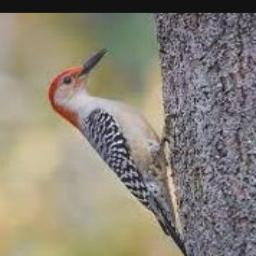Woodpecker: (47, 48, 190, 256)
